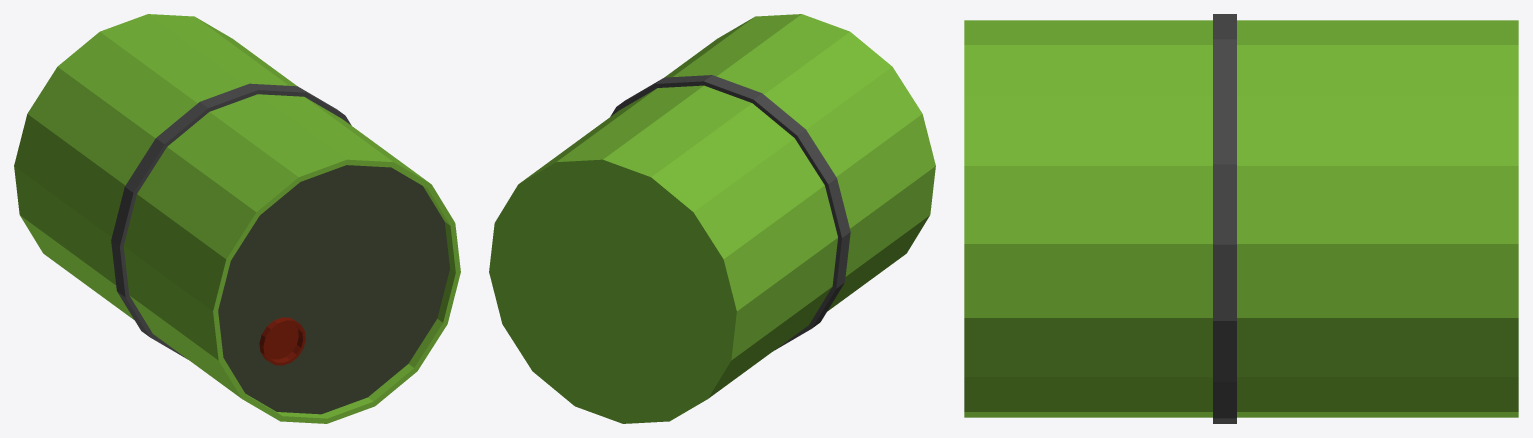
Rendered from BombBarrel.fbx.
The picture shows the model from 3 angles, left to right: view 1: azimuth 30°, elevation 25°; view 2: azimuth 150°, elevation 25°; view 3: azimuth 270°, elevation 25°; orthographic projection. The views are drawn at different scales.
Visible parts, largest first — view 1: Barrel; view 2: Barrel; view 3: Barrel.
Boxes of the visible parts, bbox=[...] form: Barrel: bbox=[14, 14, 460, 423]; Barrel: bbox=[489, 14, 935, 423]; Barrel: bbox=[964, 14, 1518, 423].
Bounding box in the file's own units: 0.8233 × 0.8233 × 1.11.
